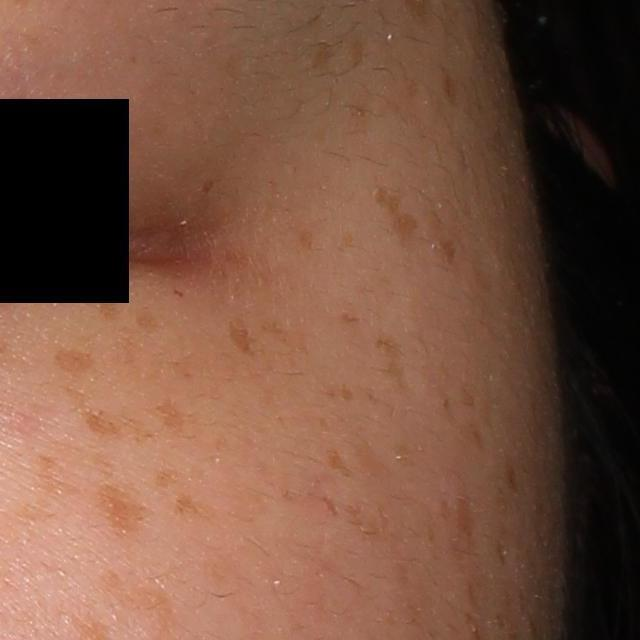melasma: (51, 383, 158, 448), (5, 449, 92, 525), (98, 480, 154, 539), (439, 394, 486, 458), (370, 186, 419, 247), (369, 335, 410, 395), (51, 342, 109, 378), (153, 393, 190, 435), (226, 318, 257, 361), (356, 439, 392, 476), (173, 489, 213, 521), (149, 465, 185, 492), (308, 39, 335, 73), (133, 303, 163, 333), (325, 449, 354, 479), (440, 67, 459, 109), (336, 379, 359, 403), (318, 493, 340, 518), (352, 40, 369, 70), (297, 227, 316, 250), (340, 309, 364, 325), (196, 176, 214, 197)
